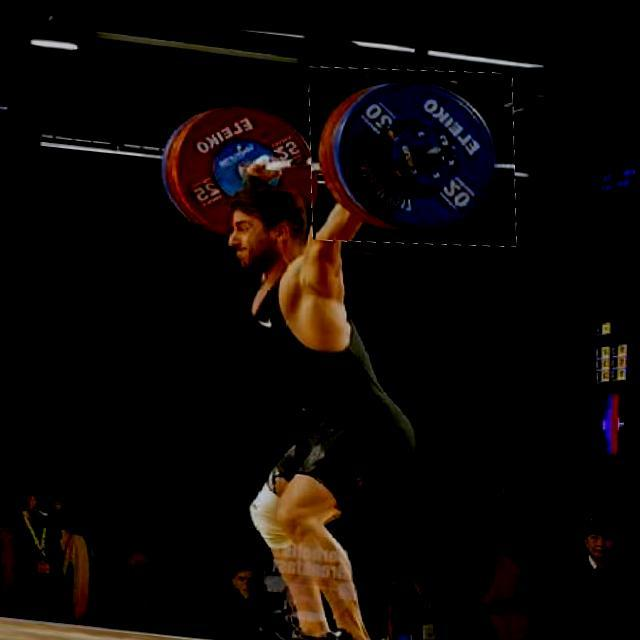barbell: (307, 51, 522, 247)
